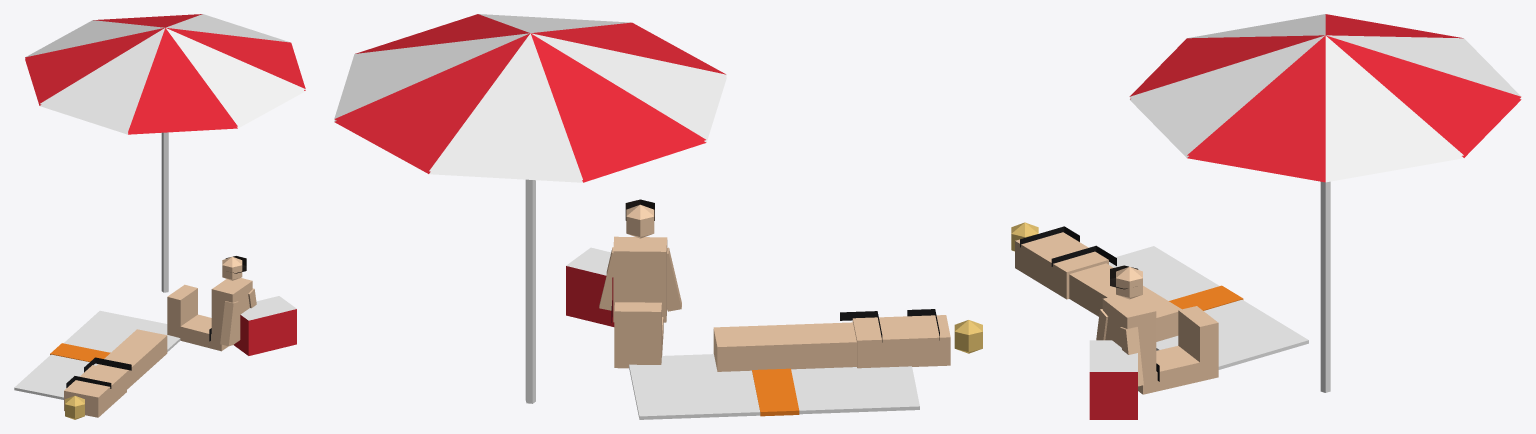
The model's file is nudista_grupo_7.obj.
The picture shows the model from 3 angles, left to right: view 1: azimuth 30°, elevation 25°; view 2: azimuth 150°, elevation 25°; view 3: azimuth 270°, elevation 25°; orthographic projection. The views are drawn at different scales.
Parts seen in each view (by area): view 1: nudista_grupo_7; view 2: nudista_grupo_7; view 3: nudista_grupo_7.
Part boxes in pixels (x1,y1,x2,y2): nudista_grupo_7: [14, 14, 305, 419]; nudista_grupo_7: [334, 14, 982, 419]; nudista_grupo_7: [1011, 14, 1521, 419].
Size of the model in its own units: 3.52 by 2.6 by 3.38.
